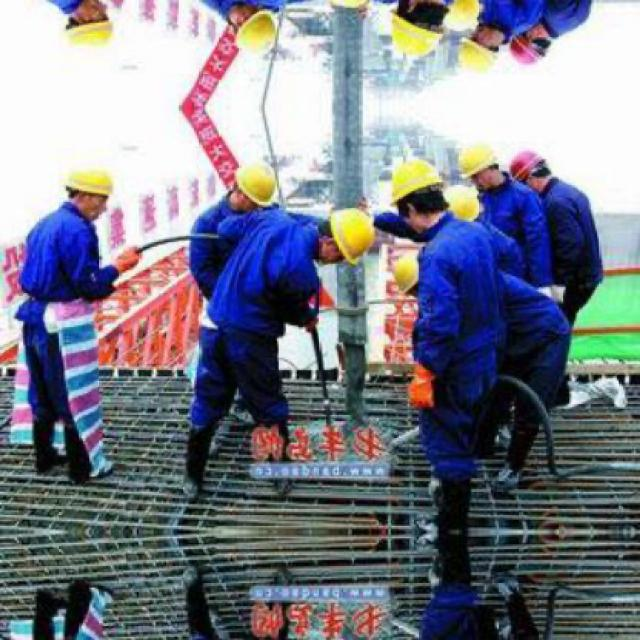helmet: (389, 154, 451, 230), (318, 205, 380, 268), (388, 0, 450, 63), (62, 0, 118, 59), (63, 159, 119, 217), (232, 4, 285, 62), (232, 156, 285, 213), (459, 137, 503, 193), (459, 23, 503, 79), (506, 26, 552, 68), (506, 150, 552, 191), (394, 253, 431, 298), (317, 0, 380, 12)
